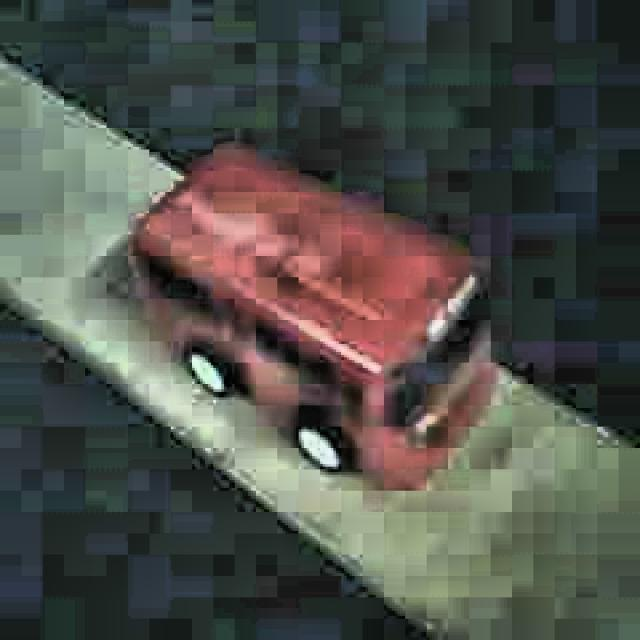bus: (129, 142, 495, 495)
